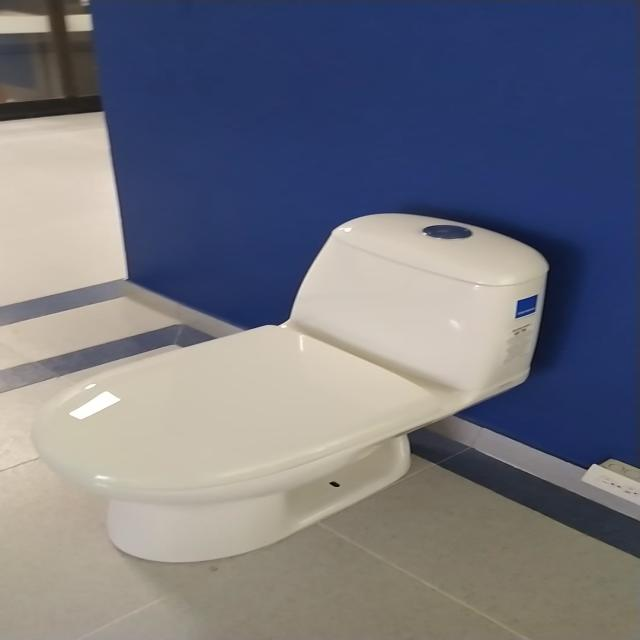toilet: (36, 207, 557, 565)
